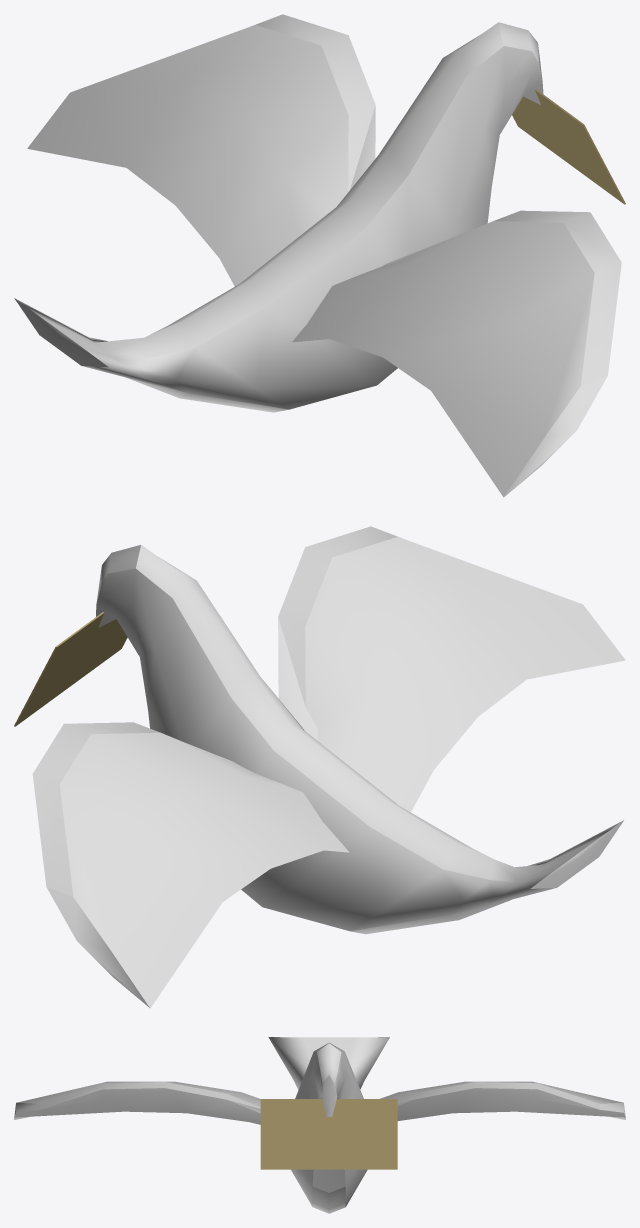
Rendered from gezi.fbx.
3 views of the same model, one above another, from view 1: azimuth 30°, elevation 25°; view 2: azimuth 150°, elevation 25°; view 3: azimuth 270°, elevation 25° (orthographic). The views are drawn at different scales.
Parts seen in each view (by area): view 1: pCube1, pCube4, pCube3, pCube5; view 2: pCube3, pCube1, pCube4, pCube5; view 3: pCube5, pCube1, pCube3, pCube4.
Part boxes in pixels (x1=…): pCube1: x1=14, y1=22, x2=543, y2=412; pCube4: x1=27, y1=14, x2=375, y2=286; pCube3: x1=292, y1=210, x2=621, y2=497; pCube5: x1=512, y1=89, x2=625, y2=204; pCube3: x1=278, y1=526, x2=625, y2=812; pCube1: x1=96, y1=545, x2=623, y2=934; pCube4: x1=32, y1=722, x2=349, y2=1008; pCube5: x1=14, y1=612, x2=127, y2=726; pCube5: x1=260, y1=1099, x2=397, y2=1169; pCube1: x1=268, y1=1037, x2=389, y2=1213; pCube3: x1=14, y1=1081, x2=260, y2=1124; pCube4: x1=380, y1=1081, x2=625, y2=1120.
Bounding box in the file's own units: 4.97 × 3.11 × 8.01.
